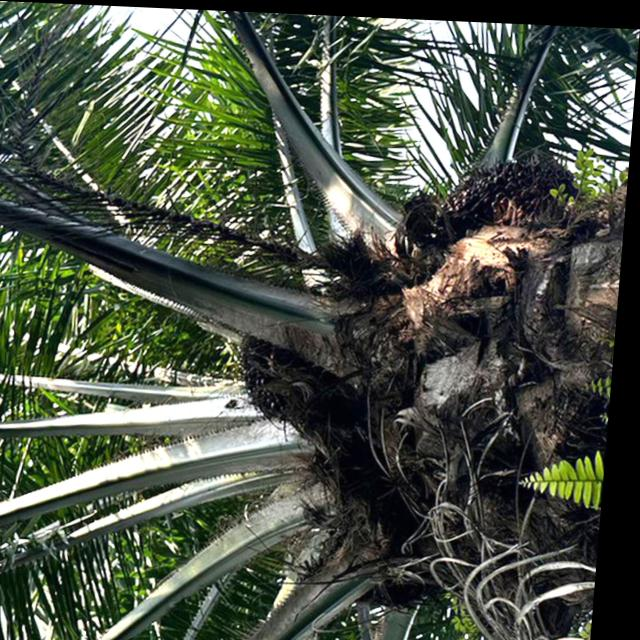unripe: (235, 319, 343, 429)
